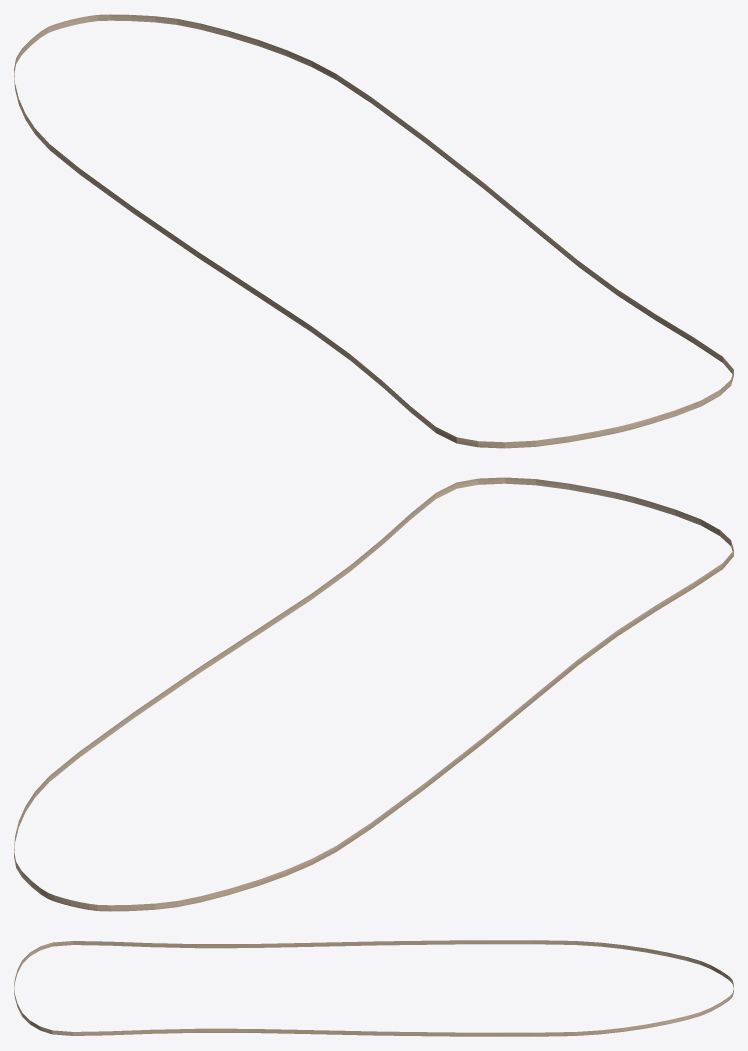
File: surfboard03-side.glb
3 renders of one model, top to bottom at view 1: azimuth 30°, elevation 25°; view 2: azimuth 150°, elevation 25°; view 3: azimuth 270°, elevation 25°, orthographic. The views are drawn at different scales.
Parts seen in each view (by area): view 1: surfboard03-side; view 2: surfboard03-side; view 3: surfboard03-side.
Boxes of the visible parts, x1,y1,x2,y2 form: surfboard03-side: (14,14,733,448); surfboard03-side: (14,477,733,911); surfboard03-side: (14,940,733,1036).
Size of the model in its own units: 0.3087 by 0.00632 by 1.01.
Materials: 1 (1 with a texture image).
